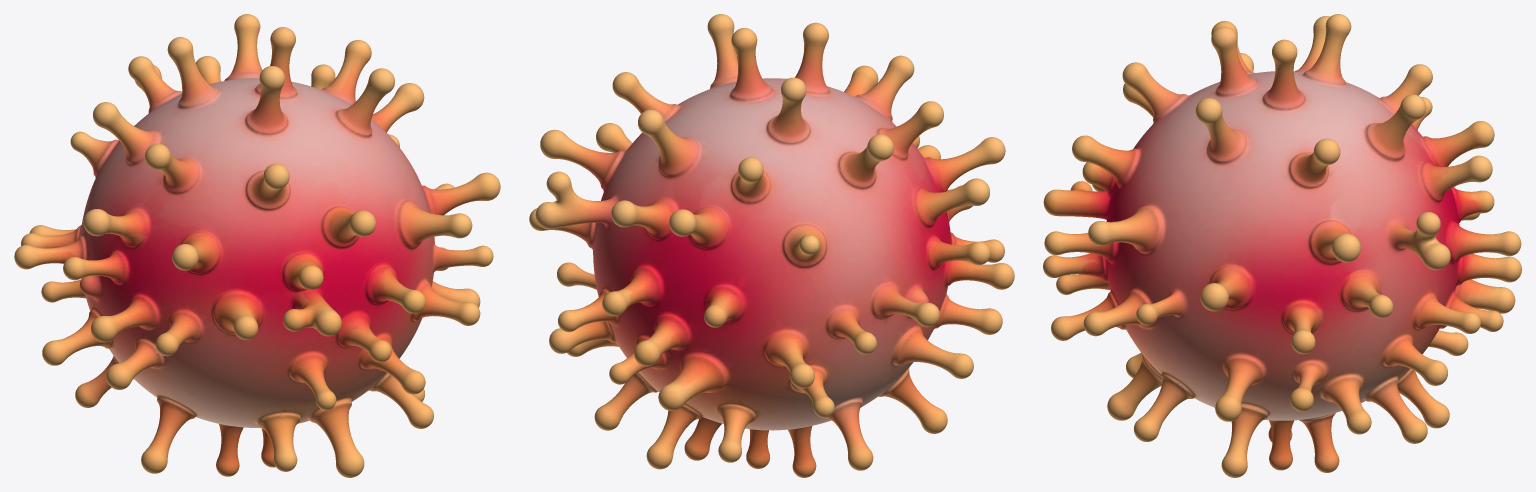
The model's file is virus.glb.
3 views of the same model, side by side, from view 1: azimuth 30°, elevation 25°; view 2: azimuth 150°, elevation 25°; view 3: azimuth 270°, elevation 25° (orthographic).
Parts seen in each view (by area): view 1: node_0; view 2: node_0; view 3: node_0.
Part boxes in pixels (x1,y1,x2,y2): node_0: [14, 14, 500, 477]; node_0: [529, 14, 1014, 477]; node_0: [1043, 14, 1521, 477].
Size of the model in its own units: 1.13 by 1.12 by 1.12.
Materials: 1 (1 with a texture image).
